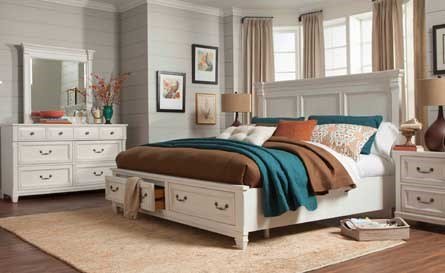bed: (104, 69, 403, 251)
lamp: (417, 76, 445, 152), (221, 91, 252, 128)
stool: (395, 147, 445, 229)
